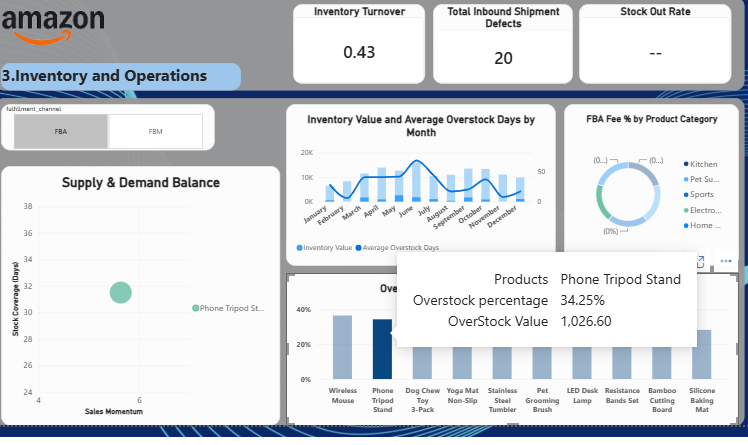

The dashboard page shown, as its layout file describes it:
{"tool":"powerbi","page":{"name":"Inventory","canvas":[1280,720],"ordinal":2},"visuals":[{"type":"textbox","box":[10.3,169,1259.3,551],"z":0},{"type":"textbox","box":[10.3,0,1259.3,157.2],"z":1000},{"type":"cardVisual","title":"Stock Out Rate","fields":{"Data":["inventory_daily.Stock Out Rate"]},"box":[991.8,11.8,255.7,133.7],"z":2000},{"type":"textbox","box":[20.6,111.7,402.6,45.6],"z":3000},{"type":"cardVisual","title":"Inventory Turnover","fields":{"Data":["inventory_daily.Inventory Turnover (Annualized)"]},"box":[511.3,11.8,221.9,133.7],"z":4000},{"type":"lineClusteredColumnComboChart","fields":{"Y":["inventory_daily.Inventory Value"],"Category":["inventory_daily.date.Variation.Date Hierarchy.Month"],"Y2":["inventory_daily.Average Overstock Days"]},"box":[499.6,179.3,452.6,271.8],"z":5000},{"type":"cardVisual","title":"Total Inbound Shipment Defects","fields":{"Data":["Sum(inventory_daily.inbound_shipment_defects)"]},"box":[746.4,11.8,235.1,133.7],"z":6000},{"type":"columnChart","fields":{"Category":["sku_catalog.Products"],"Y":["inventory_daily.Overstock percentage"]},"box":[499.6,462.9,759.7,257.1],"z":7000},{"type":"scatterChart","title":"Supply & Demand Balance","fields":{"X":["orders.Daily Velocity (30D)"],"Y":["orders.Days of Cover"],"Series":["sku_catalog.Products"],"Size":["orders.Gross Revenue"]},"box":[20.6,283.6,468.7,436.4],"z":8000},{"type":"slicer","fields":{"Values":["orders.fulfillment_channel"]},"box":[20.6,179.3,358.5,77.9],"z":9000},{"type":"donutChart","fields":{"Category":["sku_catalog.Product Category"],"Y":["inventory_daily.FBA Fee %"]},"box":[965.4,179.3,293.9,271.8],"z":10000},{"type":"image","box":[17.6,0,182.2,111.7],"z":11000}]}

Visuals, with their boxes in screenshot pixels (x1, y1, x2, y2):
textbox: pyautogui.locateOnScreen(0, 105, 745, 434)
textbox: pyautogui.locateOnScreen(0, 4, 745, 98)
"Stock Out Rate" cardVisual: pyautogui.locateOnScreen(579, 11, 732, 91)
textbox: pyautogui.locateOnScreen(0, 71, 239, 98)
"Inventory Turnover" cardVisual: pyautogui.locateOnScreen(292, 11, 424, 91)
lineClusteredColumnComboChart - inventory_daily.Inventory Value x inventory_daily.date.Variation.Date Hierarchy.Month: pyautogui.locateOnScreen(285, 111, 555, 273)
"Total Inbound Shipment Defects" cardVisual: pyautogui.locateOnScreen(432, 11, 573, 91)
columnChart - sku_catalog.Products x inventory_daily.Overstock percentage: pyautogui.locateOnScreen(285, 280, 739, 434)
"Supply & Demand Balance" scatterChart: pyautogui.locateOnScreen(0, 173, 279, 434)
slicer - orders.fulfillment_channel: pyautogui.locateOnScreen(0, 111, 213, 158)
donutChart - sku_catalog.Product Category x inventory_daily.FBA Fee %: pyautogui.locateOnScreen(563, 111, 739, 273)
image: pyautogui.locateOnScreen(0, 4, 106, 71)
